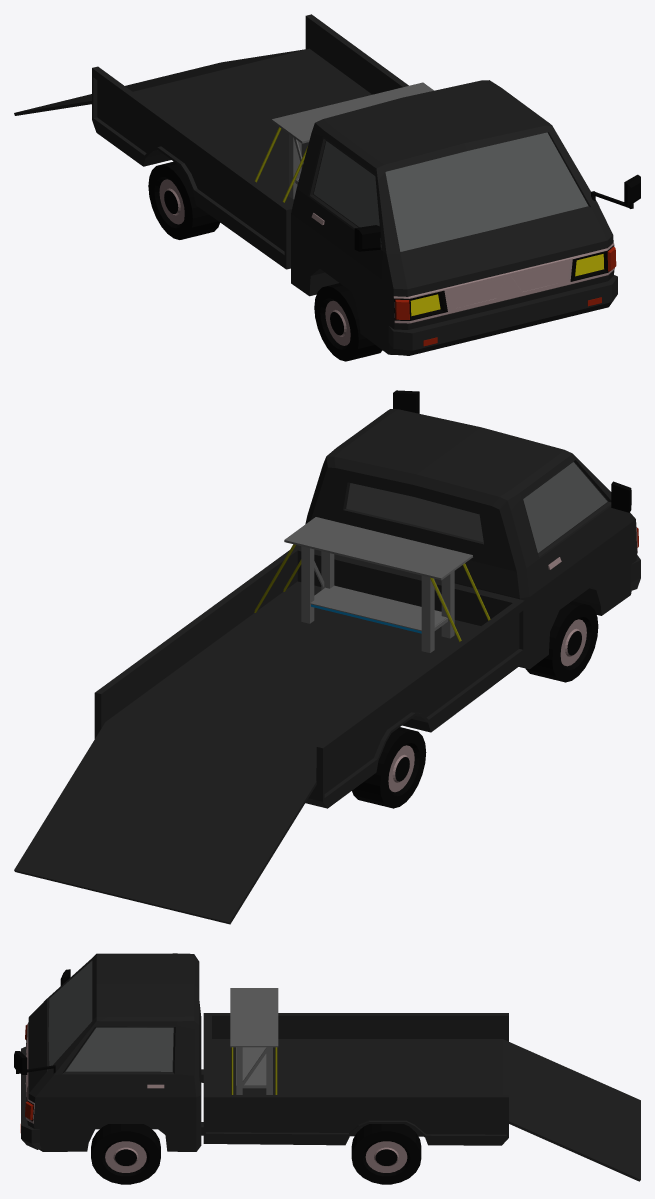
The model's file is Car.fbx.
3 views of the same model, one above another, from view 1: azimuth 30°, elevation 25°; view 2: azimuth 150°, elevation 25°; view 3: azimuth 270°, elevation 25° (orthographic). The views are drawn at different scales.
Visible parts, largest first — view 1: Plane.002; view 2: Plane.002; view 3: Plane.002.
Part boxes in pixels (x1,y1,x2,y2): Plane.002: (14, 14, 640, 361); Plane.002: (14, 390, 640, 924); Plane.002: (14, 953, 640, 1184).
Bounding box in the file's own units: 692 × 522 × 1874.
